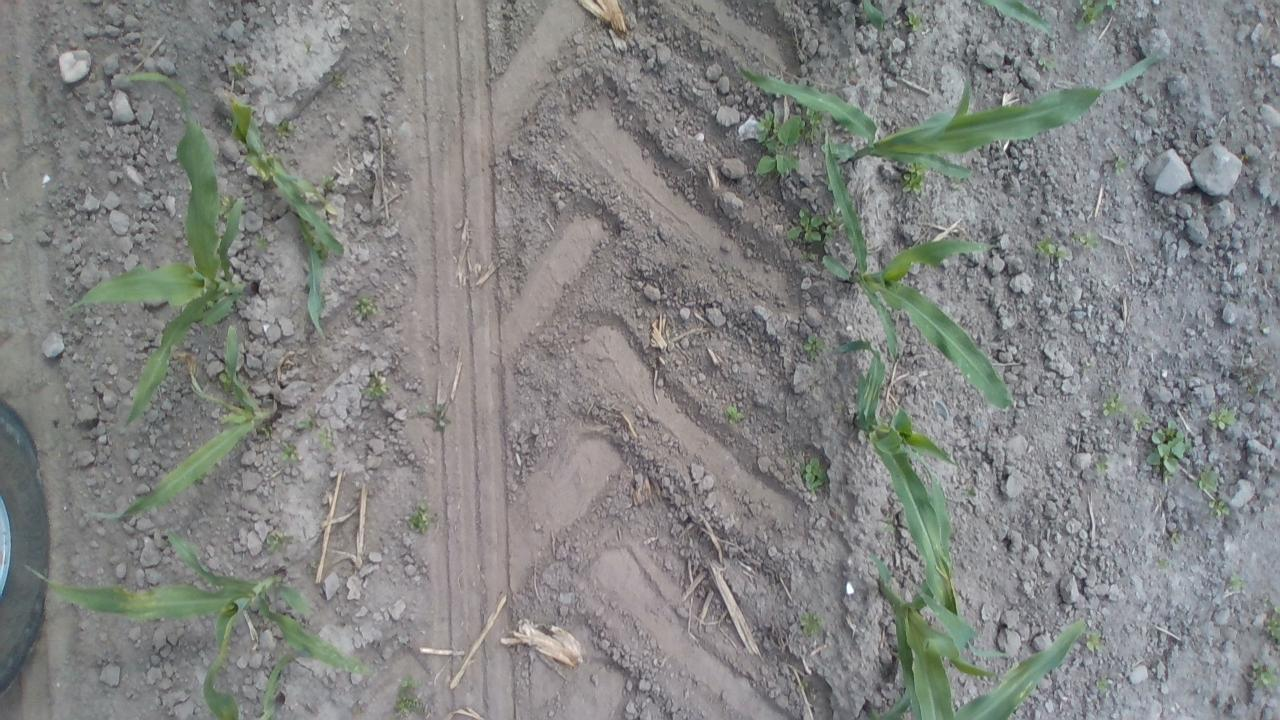Maize: (56, 67, 250, 434), (23, 525, 380, 720), (733, 49, 1168, 184), (816, 130, 1016, 413), (826, 332, 968, 634), (85, 318, 282, 530), (860, 551, 1093, 720), (221, 86, 350, 353), (858, 1, 1062, 42), (201, 650, 302, 719)
Weeds: (754, 109, 802, 180), (1144, 418, 1193, 482), (786, 208, 840, 260), (1074, 0, 1122, 36), (388, 677, 427, 718), (412, 399, 458, 432), (796, 454, 830, 494), (798, 103, 826, 144), (407, 497, 438, 533), (798, 606, 828, 643), (1246, 658, 1278, 692), (902, 162, 932, 198), (272, 115, 304, 148), (1033, 236, 1072, 263), (362, 370, 391, 404), (250, 230, 282, 260), (1205, 404, 1238, 433), (1081, 626, 1109, 659), (800, 331, 828, 363), (1190, 462, 1218, 493), (1070, 228, 1104, 252), (1032, 53, 1060, 82), (1122, 407, 1150, 436), (352, 294, 379, 324), (1096, 392, 1126, 419), (1205, 494, 1233, 522), (1260, 599, 1277, 645), (1090, 452, 1114, 481), (276, 439, 304, 463), (217, 192, 240, 221), (722, 403, 748, 428), (1108, 156, 1132, 182), (1224, 573, 1249, 597), (223, 61, 249, 84), (879, 508, 896, 542), (264, 528, 290, 550), (293, 415, 322, 434), (1092, 670, 1114, 694), (315, 430, 336, 453), (906, 11, 926, 32), (960, 482, 979, 503), (1166, 530, 1185, 548), (1154, 557, 1171, 573)
